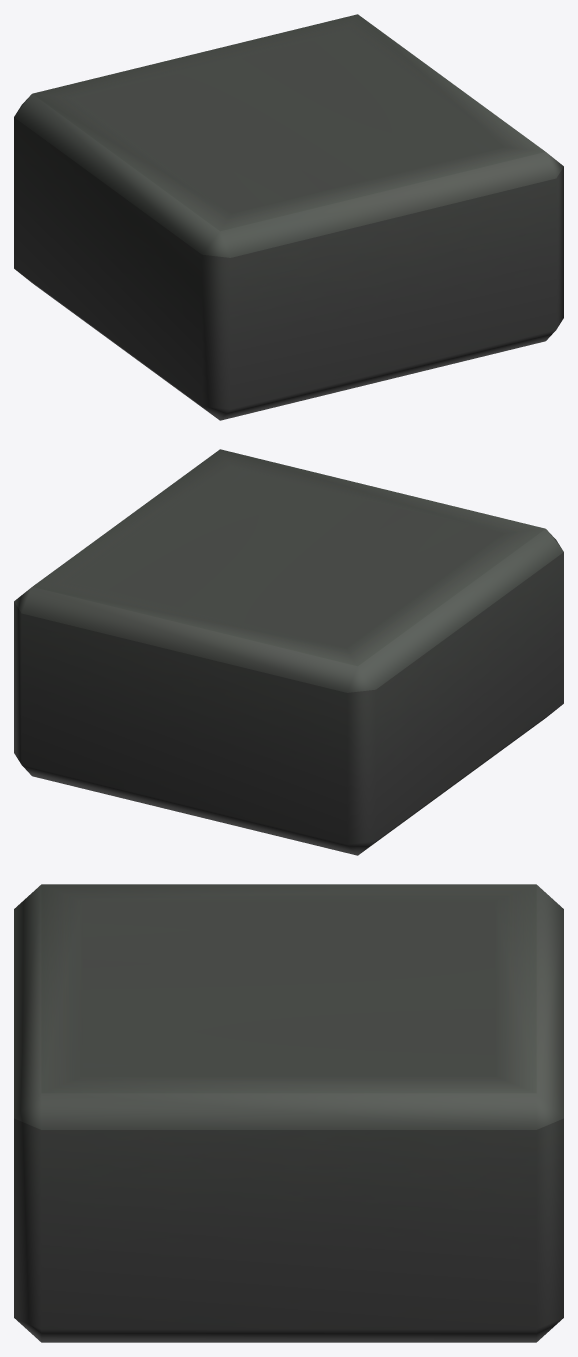
The model's file is island_x2.fbx.
3 views of the same model, one above another, from view 1: azimuth 30°, elevation 25°; view 2: azimuth 150°, elevation 25°; view 3: azimuth 270°, elevation 25° (orthographic). The views are drawn at different scales.
Parts seen in each view (by area): view 1: island_x2; view 2: island_x2; view 3: island_x2.
Boxes of the visible parts, bbox=[...] form: island_x2: bbox=[14, 14, 563, 420]; island_x2: bbox=[14, 449, 563, 855]; island_x2: bbox=[14, 884, 563, 1342].
Bounding box in the file's own units: 400 × 200 × 400.
1 material, 1 textured.
